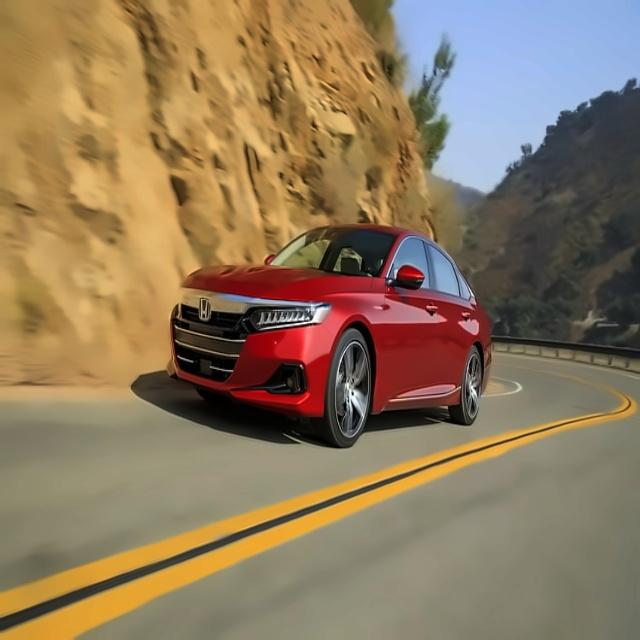Car hood: (177, 263, 377, 304)
Fender - -F-L-: (322, 276, 386, 419)
Fender - -R-L-: (468, 302, 508, 364)
Front bumper: (162, 306, 334, 420)
Headlight - -L-: (238, 296, 334, 336)
Passenger-s door - -F-L-: (379, 229, 437, 402)
Passenger-s door - -R-L-: (430, 235, 475, 400)
Rear bumper: (480, 350, 497, 405)
Side bumper - -L-: (364, 391, 471, 416)
Side mirror - -L-: (380, 255, 428, 295)
Side mirror - -R-: (257, 249, 280, 270)
